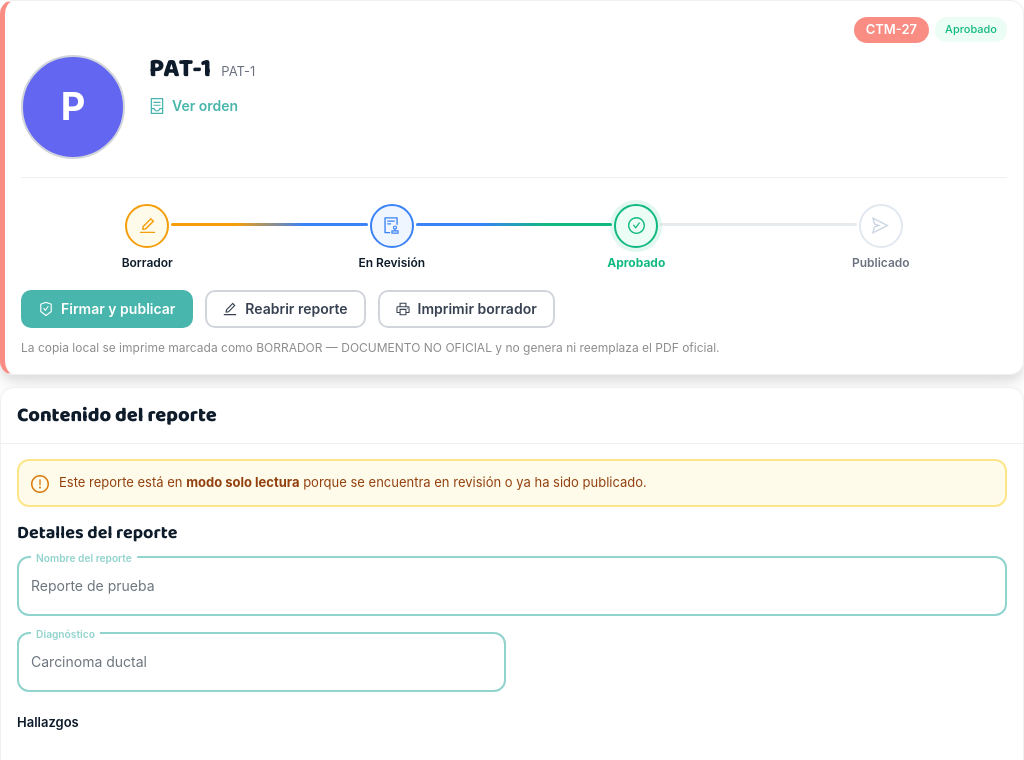
Observation B — official PDF download › cancelling the confirmation signs nothing (1.4 #13)
The width and height of the screenshot is (1024, 760).
Click the button "Firmar y publicar" at (107, 309), box [21, 290, 193, 328]
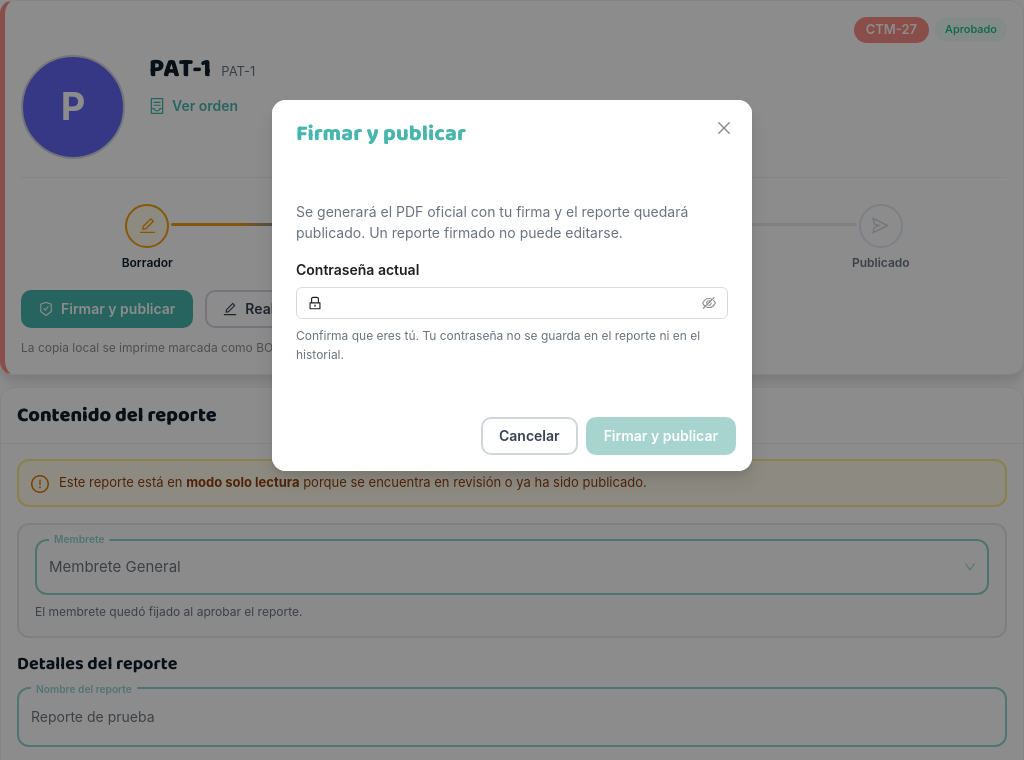
Click the button "Cancelar" at (529, 436), box [481, 417, 578, 455]
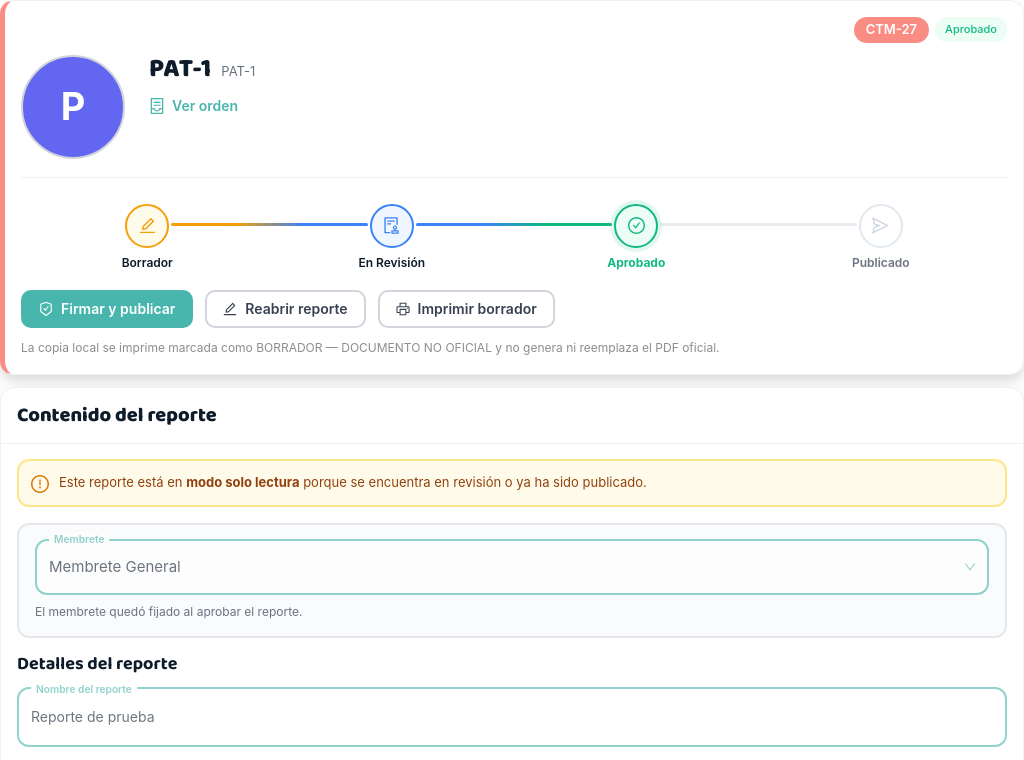
Check: the dialog is gone
